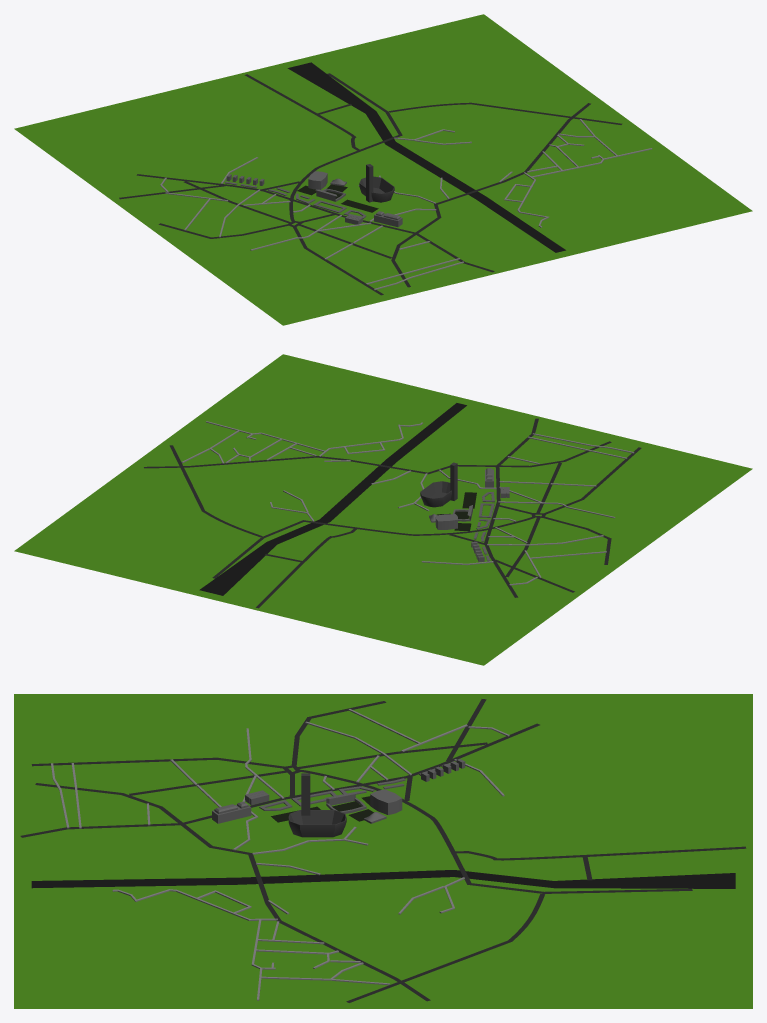
The picture shows the model from 3 angles, top to bottom: view 1: azimuth 30°, elevation 25°; view 2: azimuth 150°, elevation 25°; view 3: azimuth 270°, elevation 25°; orthographic projection. The views are drawn at different scales.
Parts seen in each view (by area): view 1: Ground, Roads, Small_Roads, Train, Houses, Stadion; view 2: Ground, Roads, Small_Roads, Train, Houses, Stadion; view 3: Ground, Roads, Train, Small_Roads, Houses, Stadion, Grass.
Boxes of the visible parts, x1=… form: Ground: x1=14, y1=14, x2=752, y2=325; Roads: x1=119, y1=73, x2=622, y2=295; Small_Roads: x1=160, y1=119, x2=652, y2=289; Train: x1=287, y1=62, x2=565, y2=252; Houses: x1=225, y1=171, x2=402, y2=227; Stadion: x1=359, y1=176, x2=394, y2=202; Ground: x1=14, y1=354, x2=752, y2=665; Roads: x1=144, y1=418, x2=641, y2=608; Small_Roads: x1=181, y1=421, x2=634, y2=585; Train: x1=199, y1=403, x2=466, y2=595; Houses: x1=429, y1=468, x2=509, y2=561; Stadion: x1=420, y1=481, x2=451, y2=507; Ground: x1=14, y1=694, x2=752, y2=1008; Roads: x1=20, y1=699, x2=746, y2=1002; Train: x1=31, y1=870, x2=735, y2=888; Small_Roads: x1=51, y1=709, x2=509, y2=1000; Houses: x1=212, y1=759, x2=465, y2=823; Stadion: x1=288, y1=810, x2=346, y2=837; Grass: x1=271, y1=796, x2=373, y2=822.
Size of the model in its own units: 39374 by 2899 by 39060.
